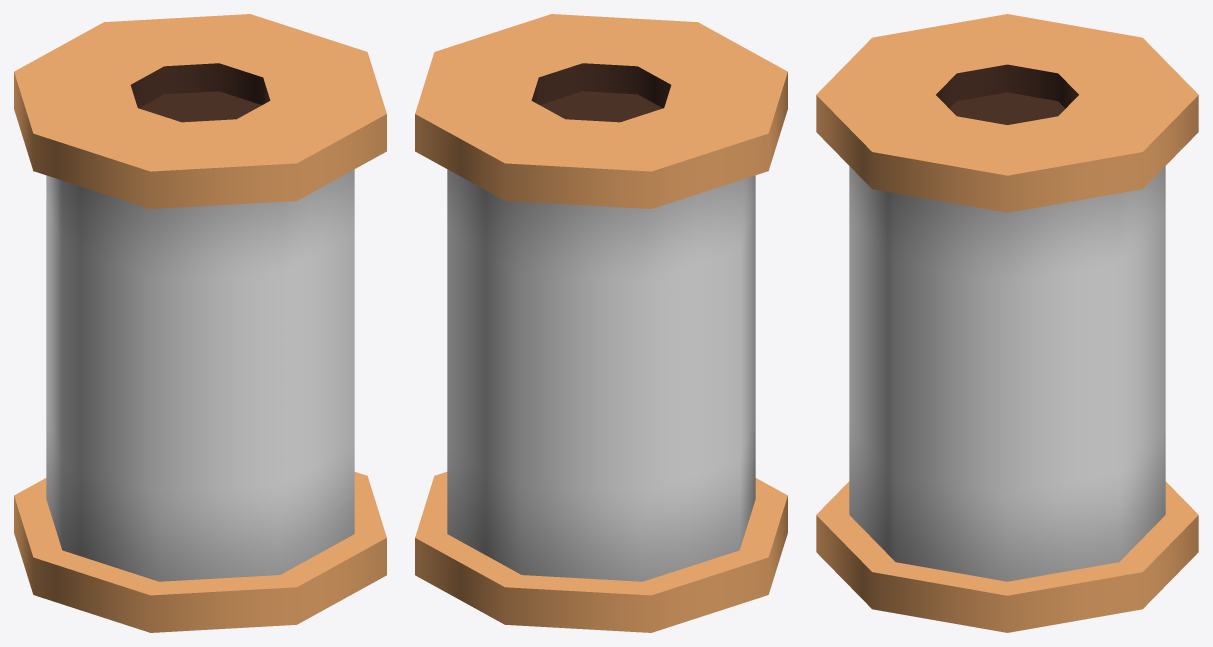
The model's file is spool-1.fbx.
3 renders of one model, left to right at view 1: azimuth 30°, elevation 25°; view 2: azimuth 150°, elevation 25°; view 3: azimuth 270°, elevation 25°, orthographic.
Parts seen in each view (by area): view 1: spool-1; view 2: spool-1; view 3: spool-1.
Boxes of the visible parts, <box> form: spool-1: <box>14,14,386,632</box>; spool-1: <box>415,14,787,632</box>; spool-1: <box>816,14,1198,632</box>.
Bounding box in the file's own units: 7.42 × 9.78 × 7.42.
2 materials, 2 textured.
